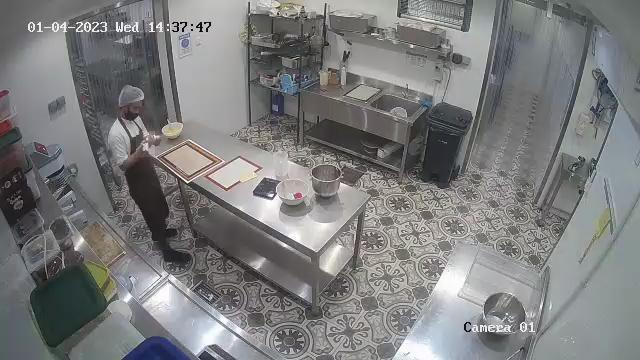gloves: (118, 85, 146, 105)
no_apron: (137, 132, 156, 158)
no_hairnet: (123, 107, 141, 123)
